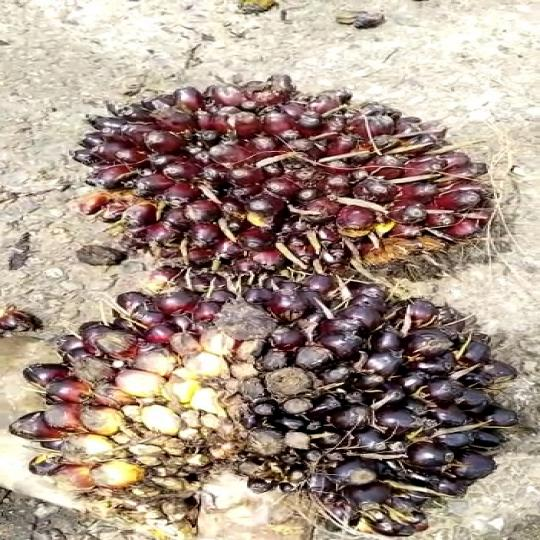mentah: (32, 262, 528, 532), (74, 68, 500, 288)
